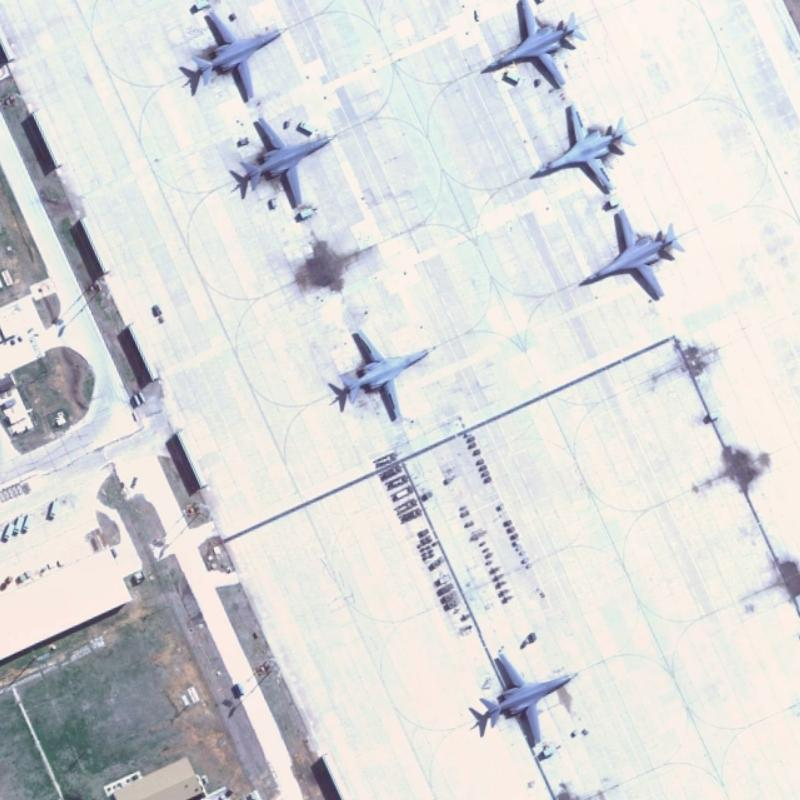A10: (469, 638, 581, 756), (521, 99, 644, 197), (177, 6, 298, 104), (575, 202, 687, 306), (326, 322, 436, 425), (231, 109, 337, 210), (482, 0, 582, 91)
